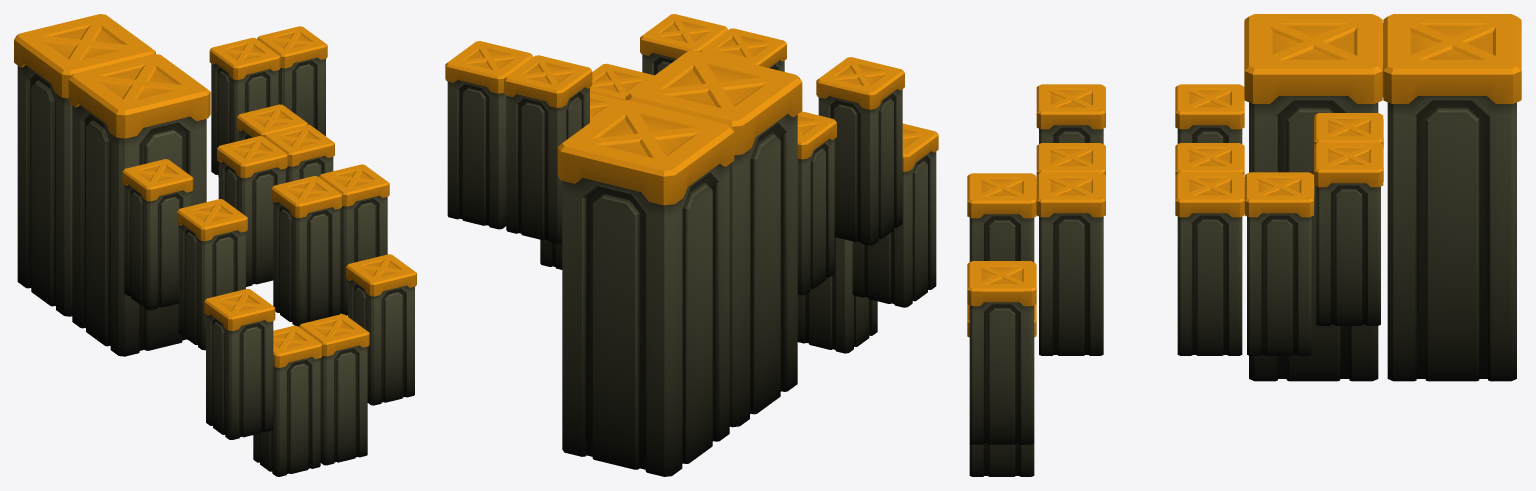
Rendered from env_planetPlatforms.FBX.
3 renders of one model, left to right at view 1: azimuth 30°, elevation 25°; view 2: azimuth 150°, elevation 25°; view 3: azimuth 270°, elevation 25°, orthographic. The views are drawn at different scales.
Visible parts, largest first — view 1: env_planetPlatforms; view 2: env_planetPlatforms; view 3: env_planetPlatforms.
Part boxes in pixels (left/top/right/bottom): env_planetPlatforms: left=14, top=14, right=416, bottom=476; env_planetPlatforms: left=445, top=14, right=938, bottom=476; env_planetPlatforms: left=967, top=14, right=1521, bottom=476.
Bounding box in the file's own units: 10.79 × 12.88 × 17.16.
